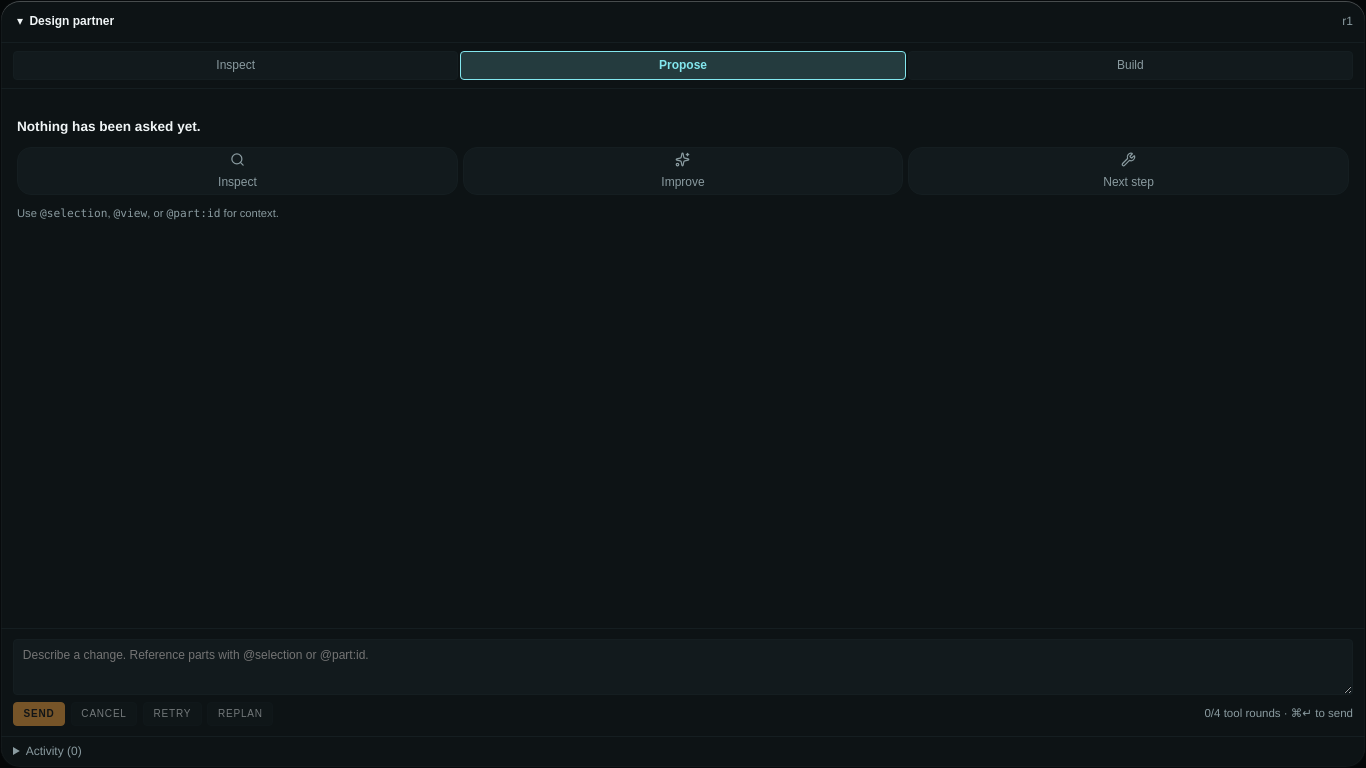
Test: AgentWorkbench › streams a reply into the transcript as it arrives
Replace the text in the text box named "Ask the design partner" with "What am I looking at?" at (683, 666), box top-left (13, 638), bottom-right (1353, 694)
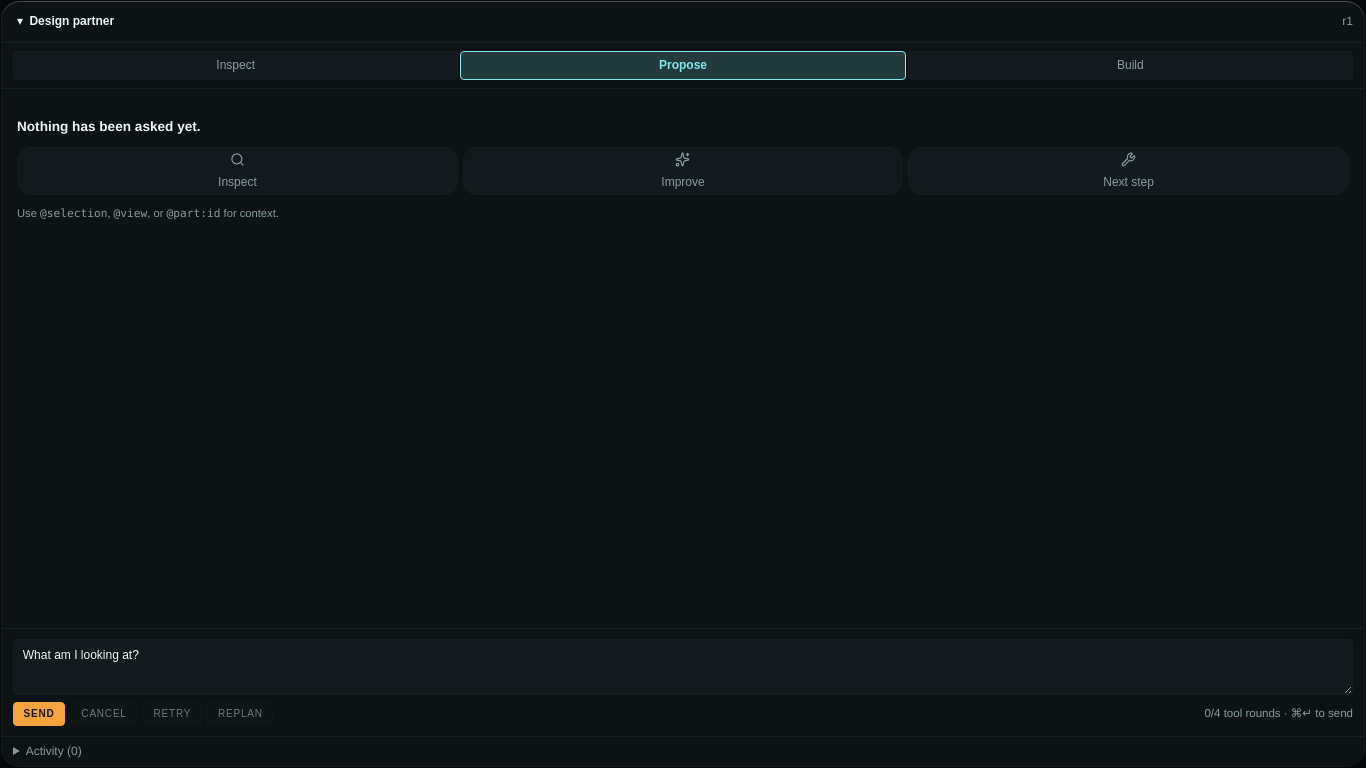
Click the button "Send" at (39, 714), box top-left (13, 702), bottom-right (65, 726)
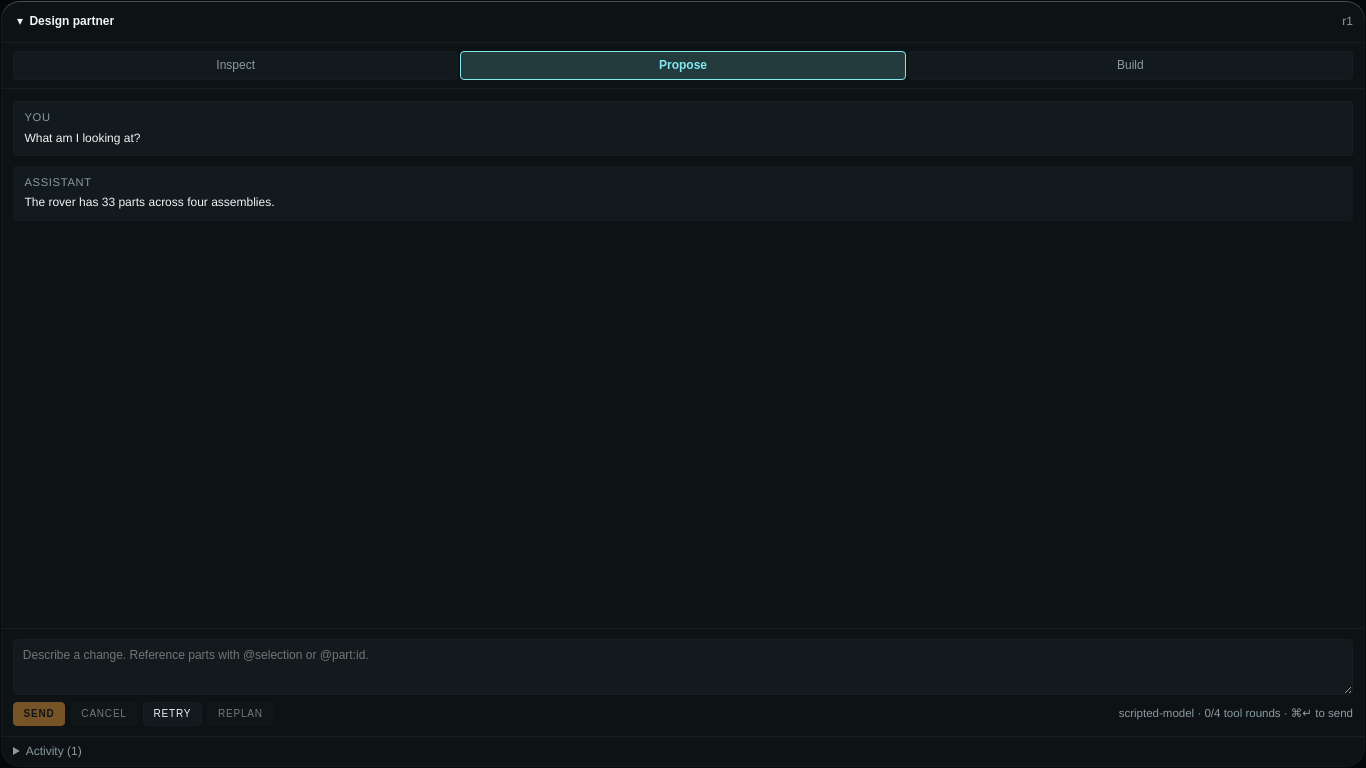
expect the text "Assistant The rover has 33 parts across four assemblies." is shown: met, box top-left (13, 166), bottom-right (1353, 221)
expect the text "What am I looking at?" is shown: met, box top-left (24, 131), bottom-right (140, 145)
